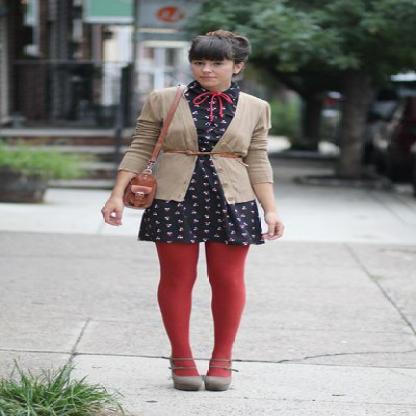bag: (123, 169, 157, 209)
dress: (138, 80, 264, 247)
jacket: (118, 92, 286, 216)
shoe: (173, 373, 232, 391)
